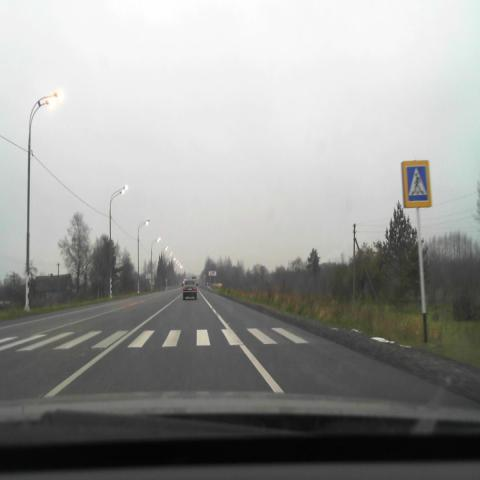5_19_1: (401, 160, 432, 208)
